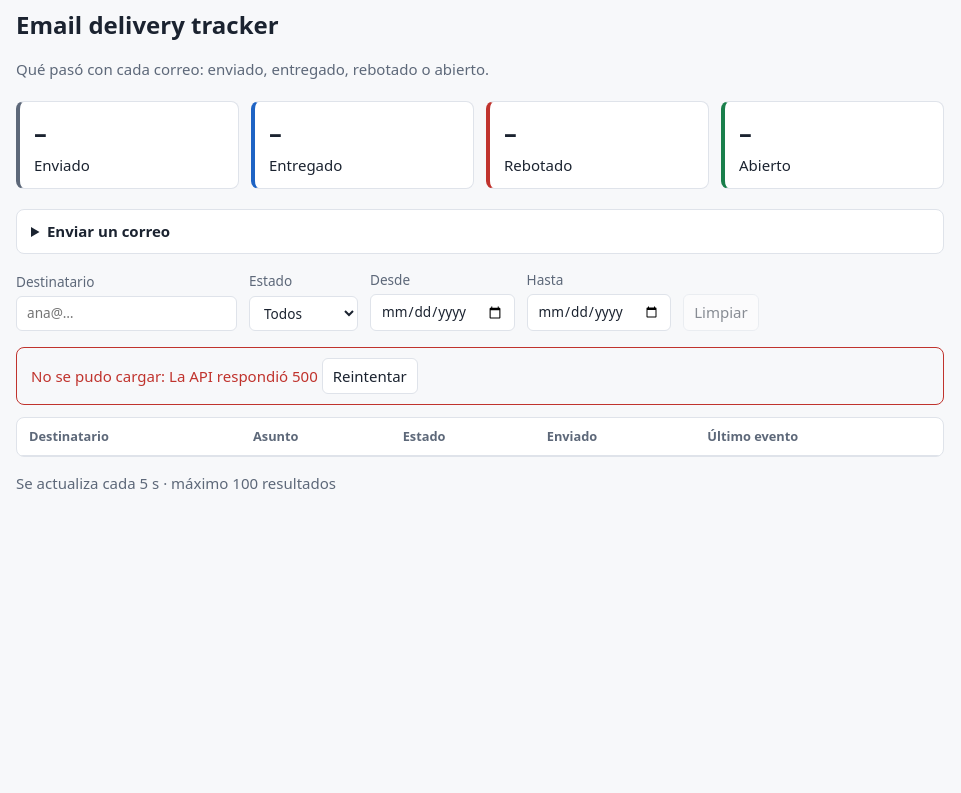
Test: si la API falla muestra el error y permite reintentar
The width and height of the screenshot is (961, 793).
Expected: the message shows "La API respondió 500", [169,366,318,386]
Click the button "Reintentar".
click(370, 376)  # box [322,358,418,394]
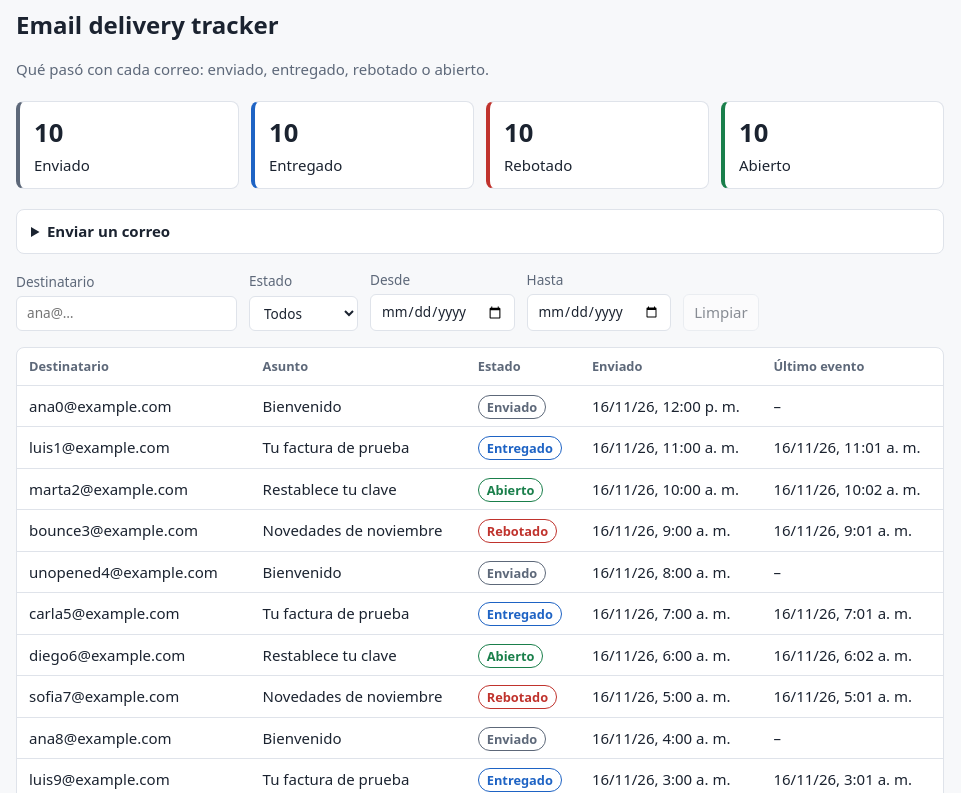
Now the message "No se pudo cargar: La API respondió 500 Reintentar" is gone
